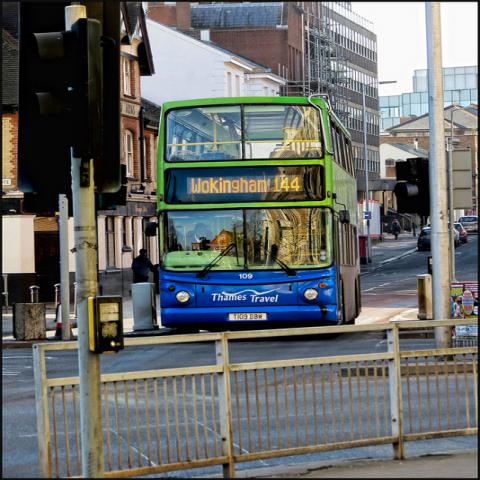bus: (156, 94, 375, 332)
car: (427, 222, 461, 248), (448, 222, 468, 242), (417, 227, 431, 251), (458, 216, 478, 232)
